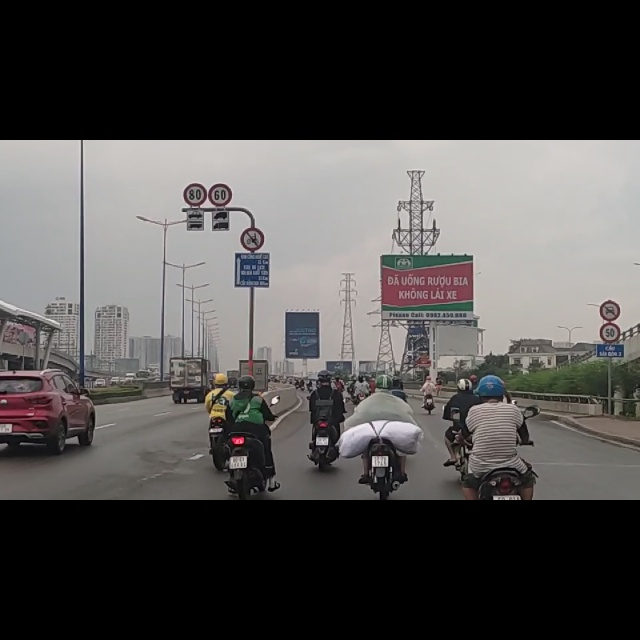bien_cam: (241, 154, 264, 196), (183, 76, 206, 116), (211, 79, 232, 119), (599, 327, 620, 363), (600, 284, 620, 321)
